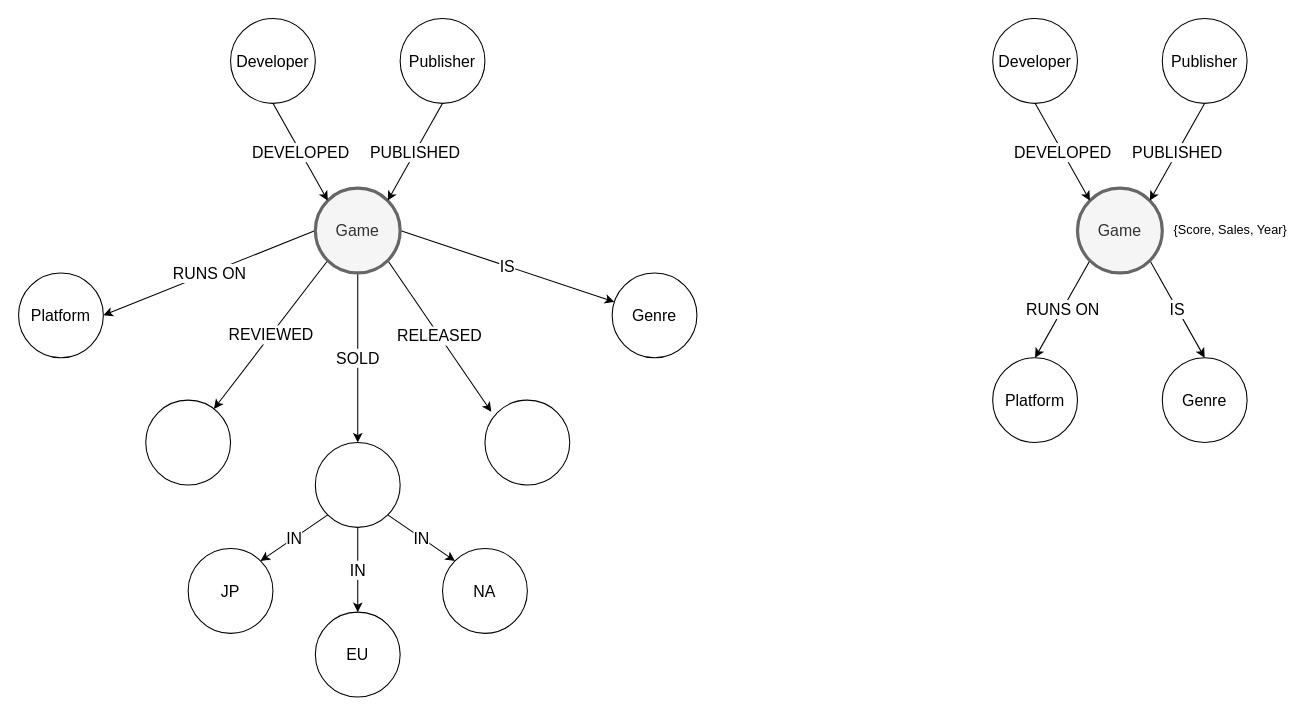
This 1312x715 diagram has some shape labels left out. Each missing label, with the centre of its shape:
Sales: pixel 357 484
Score: pixel 188 442
Year: pixel 527 442
